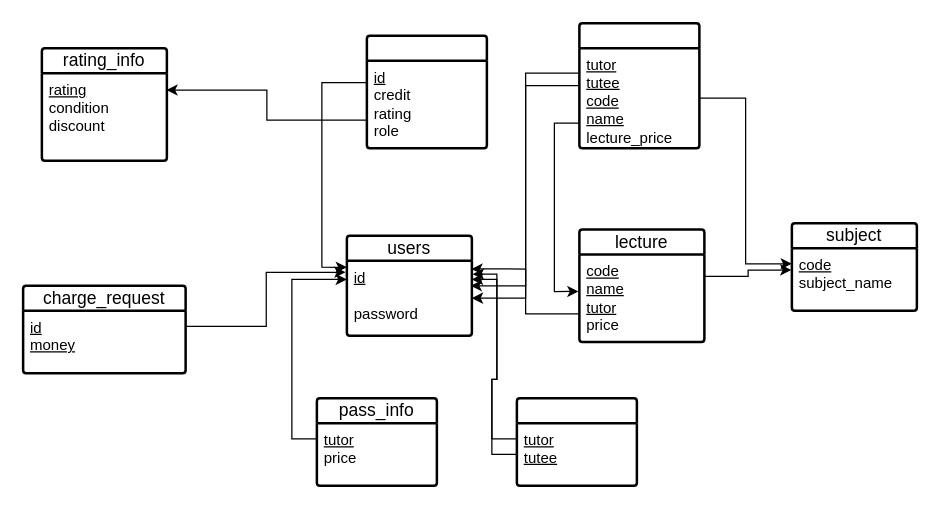
Some shapes in this 939 by 508 pixel diagram are drawn without their labels. Each missing label, with the box of its shape:
account: (365, 34, 488, 149)
enrollment: (578, 21, 700, 149)
pass_enroll: (515, 396, 638, 486)
